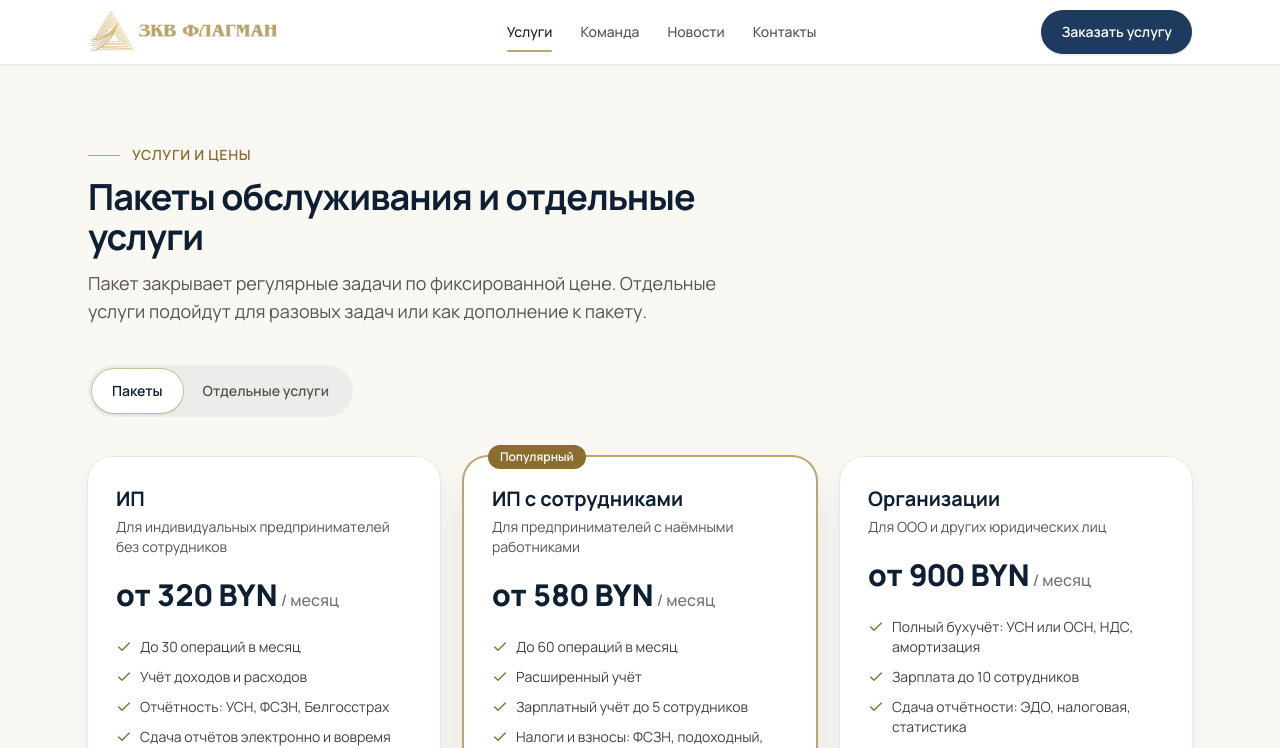
Test: ServicesPage › shows packages by default and switches to services
Expected: the heading "ИП" is shown, [116, 485, 145, 512]
Step 1. Click the tab "Отдельные услуги" → (266, 391), box [182, 369, 349, 413]
(page scrolled)
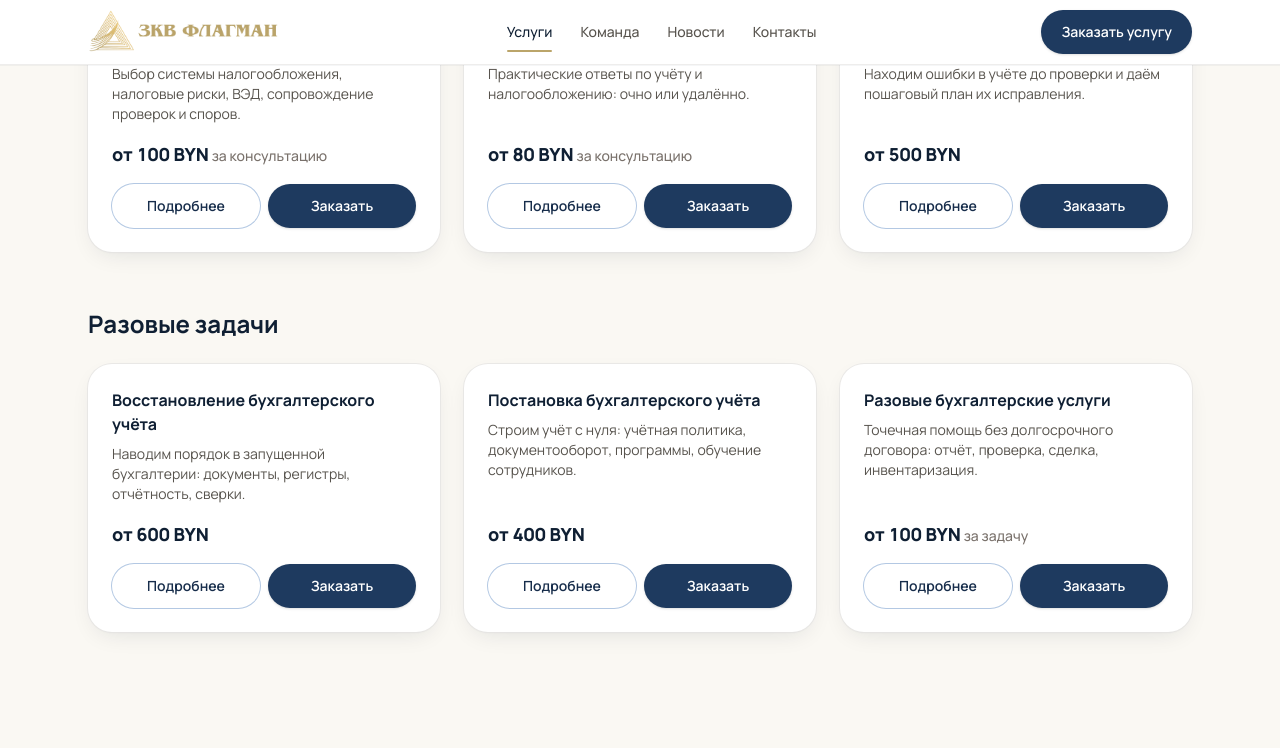
Expected: the heading "Разовые задачи" is shown, [88, 307, 279, 340]
Expected: the heading "Восстановление бухгалтерского учёта" is shown, [112, 388, 416, 436]
Expected: the heading "Постановка бухгалтерского учёта" is shown, [488, 388, 792, 412]
